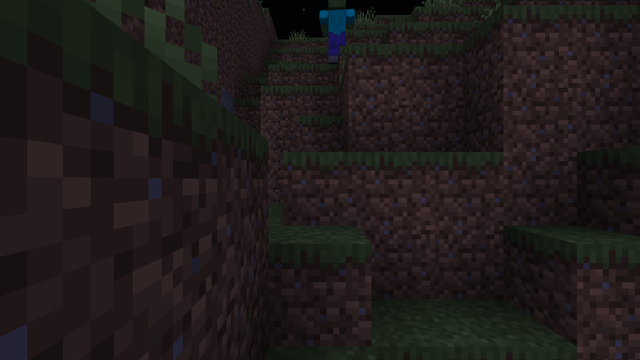zombies: (326, 0, 347, 63)
